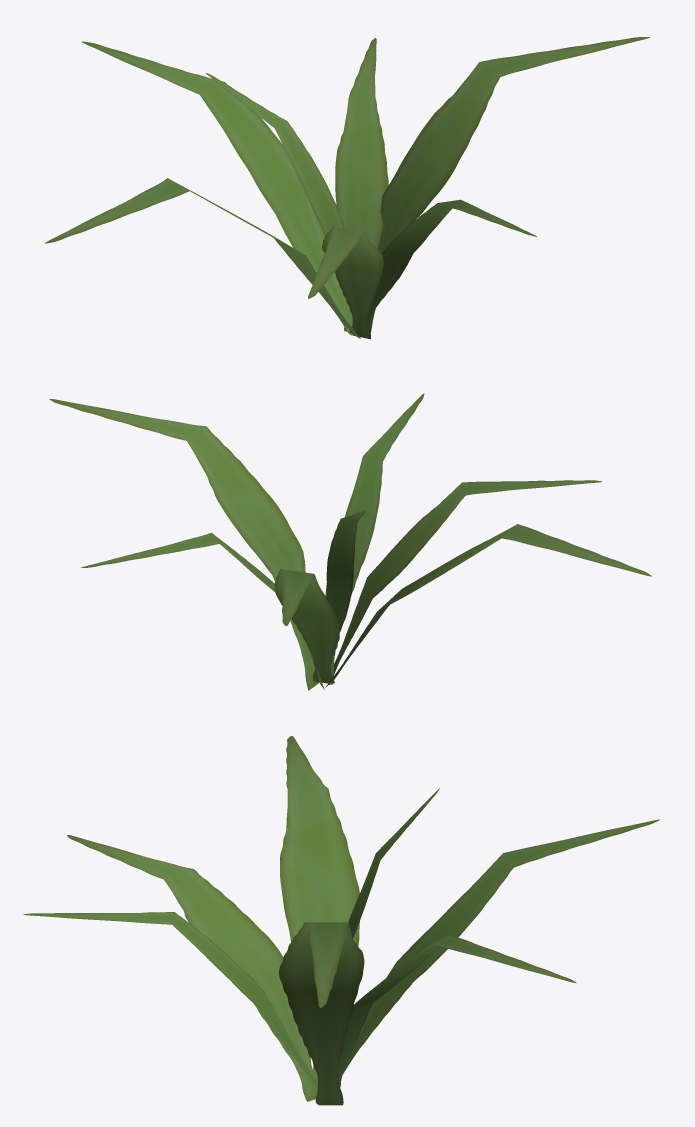
Rendered from Plant04.glb.
3 views of the same model, one above another, from view 1: azimuth 30°, elevation 25°; view 2: azimuth 150°, elevation 25°; view 3: azimuth 270°, elevation 25° (orthographic). The views are drawn at different scales.
Visible parts, largest first — view 1: plant04; view 2: plant04; view 3: plant04.
Boxes of the visible parts, x1,y1,x2,y2 form: plant04: (45, 37, 649, 339); plant04: (49, 393, 651, 690); plant04: (23, 736, 659, 1105).
Bounding box in the file's own units: 1.13 × 0.4256 × 0.9666.
1 material, 1 textured.
